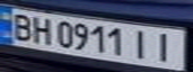0: (51, 18, 75, 48)
1: (106, 25, 130, 56), (87, 24, 106, 54)
9: (69, 20, 90, 52)
B: (6, 10, 36, 42)
H: (27, 15, 54, 45)
I: (148, 29, 181, 63), (127, 27, 157, 61)
